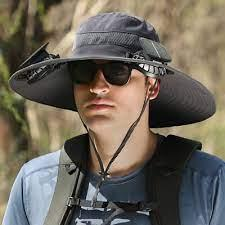cap: (2, 10, 225, 123)
sunglasses: (61, 59, 141, 82)
